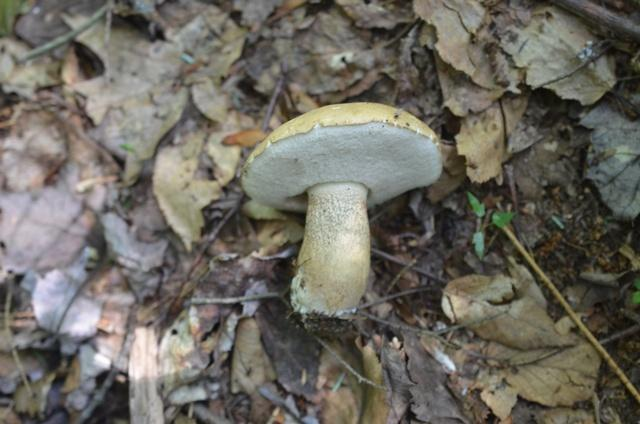Non-edible Mushroom: (238, 100, 444, 319)
